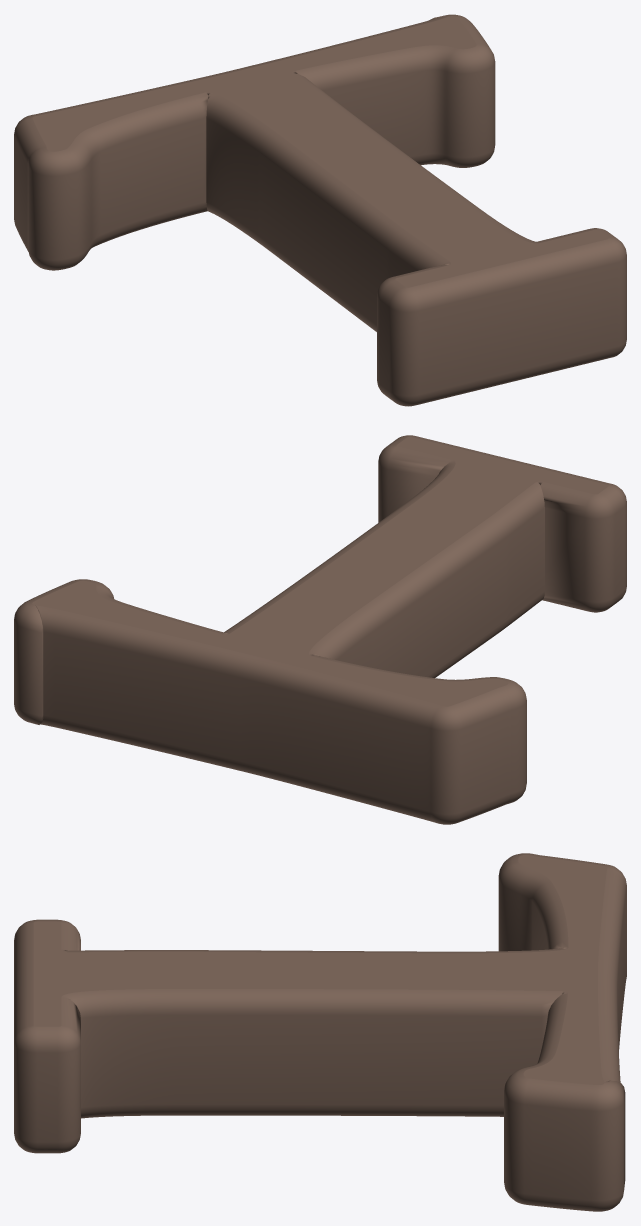
The model's file is letter_t.gltf.
3 renders of one model, top to bottom at view 1: azimuth 30°, elevation 25°; view 2: azimuth 150°, elevation 25°; view 3: azimuth 270°, elevation 25°, orthographic. The views are drawn at different scales.
Parts seen in each view (by area): view 1: Text; view 2: Text; view 3: Text.
Part boxes in pixels (box(x1,y1,x2,y2)): Text: box(14, 14, 626, 406); Text: box(14, 435, 626, 824); Text: box(14, 853, 626, 1211).
Size of the model in its own units: 0.5935 by 0.14 by 0.6226.
